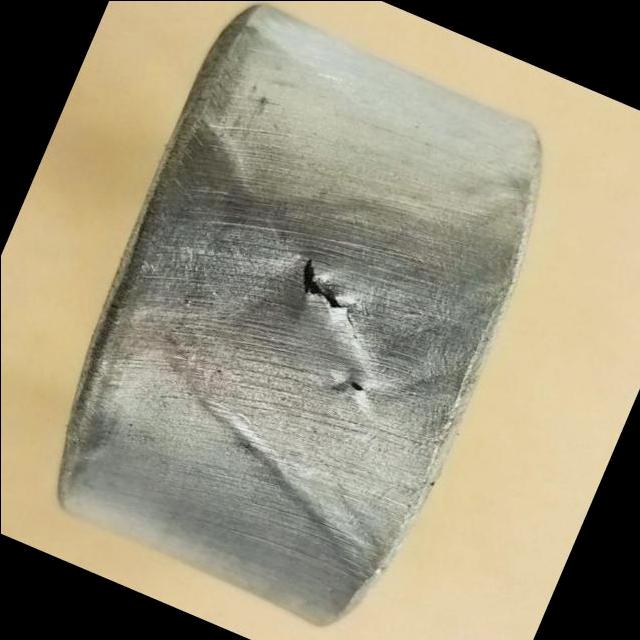defect: (294, 250, 361, 340)
